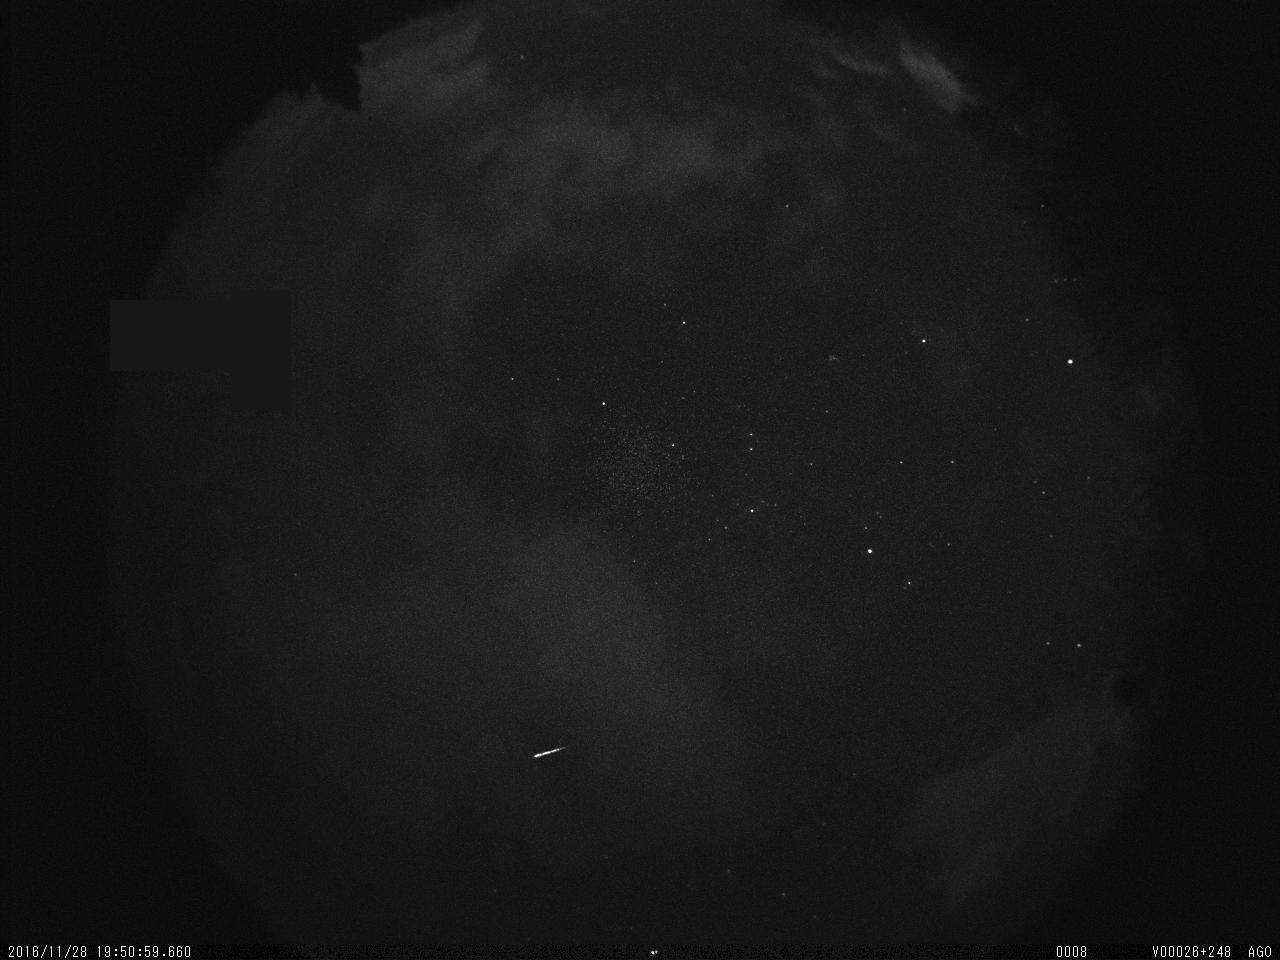Meteor: (527, 737, 580, 769)
